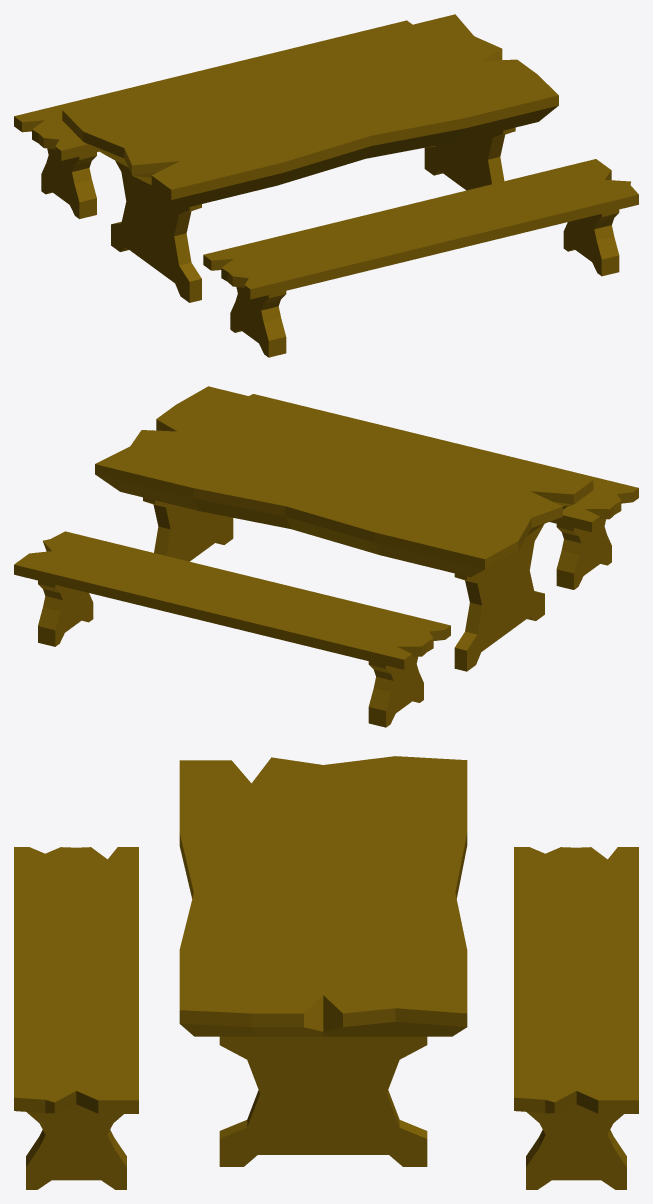
The model's file is Mesa1.fbx.
3 views of the same model, one above another, from view 1: azimuth 30°, elevation 25°; view 2: azimuth 150°, elevation 25°; view 3: azimuth 270°, elevation 25° (orthographic). The views are drawn at different scales.
Visible parts, largest first — view 1: pCube256, polySurface368, polySurface369; view 2: pCube256, polySurface369, polySurface368; view 3: pCube256, polySurface369, polySurface368.
Part boxes in pixels (x1,y1,x2,y2): pCube256: (62,14,558,302); polySurface368: (203,159,638,357); polySurface369: (14,20,412,218); pCube256: (95,386,593,671); polySurface369: (14,531,450,727); polySurface368: (249,394,638,589); pCube256: (179,756,467,1166); polySurface369: (514,847,638,1189); polySurface368: (14,847,138,1189).
Size of the model in its own units: 2.08 by 0.6397 by 2.03.
